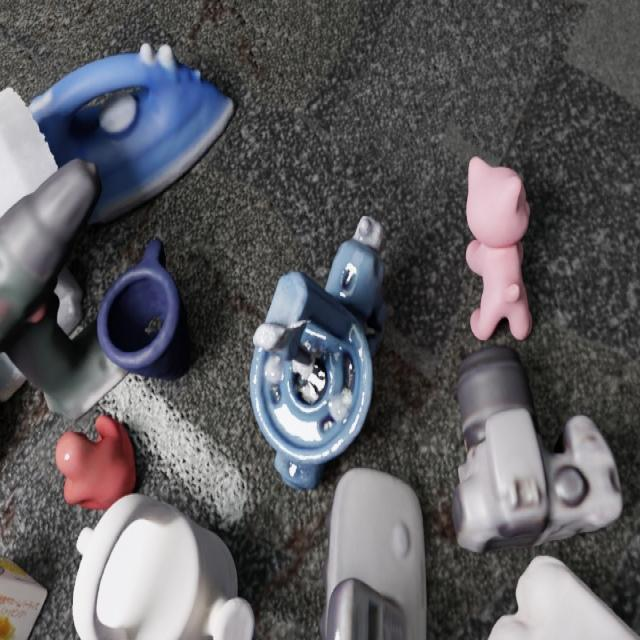Other Objects: (251, 217, 384, 488), (452, 347, 621, 551), (73, 495, 251, 639), (320, 468, 425, 639), (97, 240, 189, 379), (488, 556, 639, 639), (465, 157, 531, 340), (55, 415, 135, 509), (0, 559, 46, 639)
